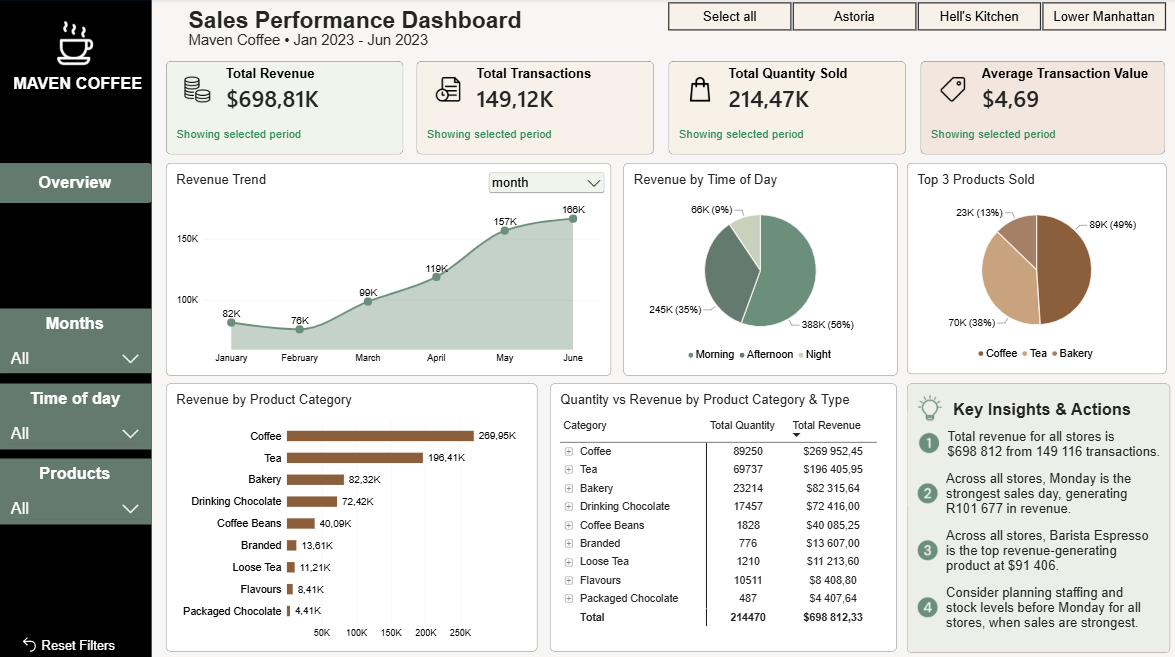

This screenshot's page, from the dashboard's own definition file:
{"tool":"powerbi","page":{"name":"Page 1","canvas":[1920,1080],"ordinal":0},"visuals":[{"type":"cardVisual","fields":{"Data":["fact_sales.Total Revenue"]},"box":[272.5,102.5,386.2,152.5],"z":0},{"type":"cardVisual","fields":{"Data":["fact_sales.Total Transactions"]},"box":[681.2,102.5,386.2,152.5],"z":1000},{"type":"cardVisual","fields":{"Data":["fact_sales.Total Quantity Sold"]},"box":[1091.2,102.6,386.5,152.7],"z":2000},{"type":"cardVisual","fields":{"Data":["fact_sales.Average Transaction Value"]},"box":[1501.5,102.6,398.4,152.7],"z":3000},{"type":"textbox","box":[310.2,14.3,706.2,57.3],"z":4000},{"type":"textbox","box":[310.2,54.9,517.7,33.4],"z":5000},{"type":"shape","box":[0.7,1.9,250,1080],"z":6000},{"type":"lineChart","title":"Revenue Trend","fields":{"Category":["dim_date.month"],"Y":["fact_sales.Total Revenue"]},"box":[274.4,267.2,724,346],"z":7000},{"type":"pieChart","title":"Revenue by Time of Day","fields":{"Category":["fact_sales.time_of_day"],"Y":["fact_sales.Total Revenue"]},"box":[1016.4,267.2,446.2,346],"z":8000},{"type":"clusteredBarChart","title":"Revenue by Product Category","fields":{"Category":["dim_product.product_category"],"Y":["fact_sales.Total Revenue"]},"box":[274,628,604,436],"z":9000},{"type":"pivotTable","title":"Quantity vs Revenue by Product Category & Type","fields":{"Rows":["dim_product.product_category","dim_product.product_type"],"Values":["fact_sales.Total Quantity Sold","fact_sales.Total Revenue"]},"box":[898,628,564,436],"z":10000},{"type":"pieChart","title":"Top 3 Products Sold","fields":{"Category":["dim_product.product_category"],"Y":["fact_sales.Total Quantity Sold"]},"box":[1479.3,267.2,422.3,343.6],"z":11000},{"type":"slicer","title":"Months","fields":{"Values":["dim_date.month"]},"box":[0,505,250,105],"z":12000},{"type":"actionButton","box":[0,267.5,250,65],"z":13000},{"type":"slicer","title":"Products","fields":{"Values":["dim_product.product_category"]},"box":[0,750,250,107.5],"z":14000},{"type":"slicer","title":"Time of day","fields":{"Values":["fact_sales.time_of_day"]},"box":[0,627.5,250,107.5],"z":15000},{"type":"actionButton","box":[34.2,1034.5,192.7,29.3],"z":16000},{"type":"slicer","fields":{"Values":["dim_store.store_location"]},"box":[1068,4,850,50],"z":17000},{"type":"shape","box":[1478,628,428,438],"z":18000},{"type":"cardVisual","fields":{"Data":["fact_sales.Sales Performance Insight"]},"box":[1477.5,655,442.5,142.5],"z":19000},{"type":"cardVisual","fields":{"Data":["fact_sales.Best Day Insight"]},"box":[1475,735,420,145],"z":20000},{"type":"cardVisual","fields":{"Data":["fact_sales.Top Product Insight"]},"box":[1475,827.5,420,145],"z":21000},{"type":"cardVisual","fields":{"Data":["fact_sales.Action Insight"]},"box":[1475,920,420,145],"z":22000},{"type":"textbox","box":[1535,655,327.5,55],"z":23000},{"type":"image","box":[1490,642.5,50,50],"z":24000},{"type":"image","box":[87.5,22.5,75,102.5],"z":25000},{"type":"textbox","box":[5,125,250,44],"z":26000},{"type":"slicer","fields":{"Values":["Revenue Trend View.Revenue Trend View"]},"box":[794,278,198,40],"z":27000}]}

Visuals, with their boxes in screenshot pixels (x1, y1, x2, y2), scaled from the page's 1920x1080 canvas onto the 1175x657 screenshot:
cardVisual - fact_sales.Total Revenue: BBox(167, 62, 403, 155)
cardVisual - fact_sales.Total Transactions: BBox(417, 62, 653, 155)
cardVisual - fact_sales.Total Quantity Sold: BBox(668, 62, 904, 155)
cardVisual - fact_sales.Average Transaction Value: BBox(919, 62, 1163, 155)
textbox: BBox(190, 9, 622, 44)
textbox: BBox(190, 33, 507, 54)
shape: BBox(0, 1, 153, 656)
"Revenue Trend" lineChart: BBox(168, 163, 611, 373)
"Revenue by Time of Day" pieChart: BBox(622, 163, 895, 373)
"Revenue by Product Category" clusteredBarChart: BBox(168, 382, 537, 647)
"Quantity vs Revenue by Product Category & Type" pivotTable: BBox(550, 382, 895, 647)
"Top 3 Products Sold" pieChart: BBox(905, 163, 1164, 372)
"Months" slicer: BBox(0, 307, 153, 371)
actionButton: BBox(0, 163, 153, 202)
"Products" slicer: BBox(0, 456, 153, 522)
"Time of day" slicer: BBox(0, 382, 153, 447)
actionButton: BBox(21, 629, 139, 647)
slicer - dim_store.store_location: BBox(654, 2, 1174, 33)
shape: BBox(905, 382, 1166, 648)
cardVisual - fact_sales.Sales Performance Insight: BBox(904, 398, 1174, 485)
cardVisual - fact_sales.Best Day Insight: BBox(903, 447, 1160, 535)
cardVisual - fact_sales.Top Product Insight: BBox(903, 503, 1160, 592)
cardVisual - fact_sales.Action Insight: BBox(903, 560, 1160, 648)
textbox: BBox(939, 398, 1140, 432)
image: BBox(912, 391, 942, 421)
image: BBox(54, 14, 99, 76)
textbox: BBox(3, 76, 156, 103)
slicer - Revenue Trend View.Revenue Trend View: BBox(486, 169, 607, 193)
